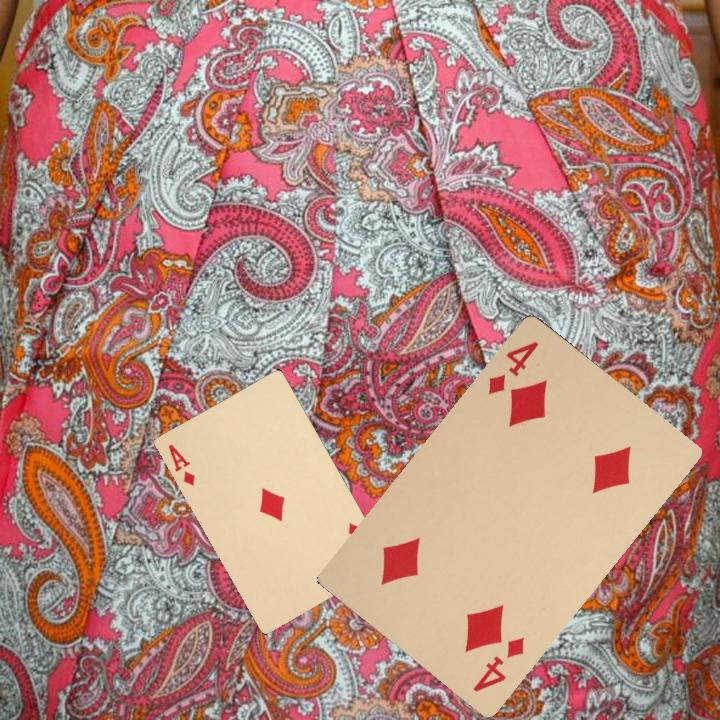4d: (468, 632, 527, 695), (484, 337, 541, 397)
Ad: (164, 440, 198, 488)
